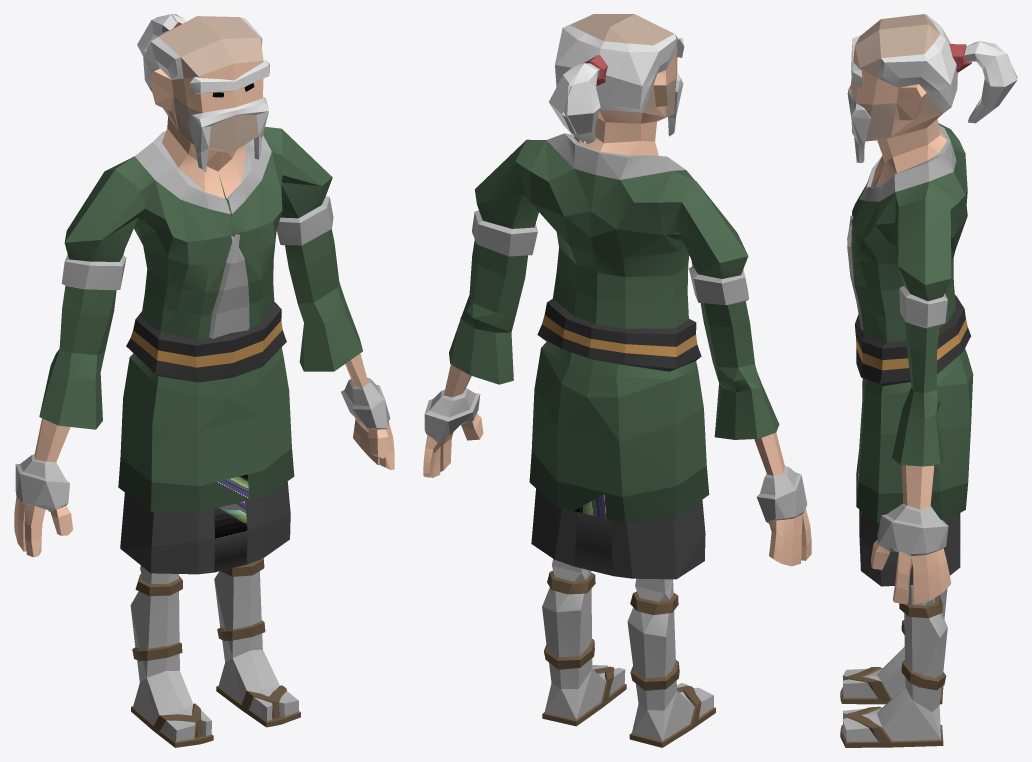
Rendered from Monk.fbx.
3 renders of one model, left to right at view 1: azimuth 30°, elevation 25°; view 2: azimuth 150°, elevation 25°; view 3: azimuth 270°, elevation 25°, orthographic. The views are drawn at different scales.
Parts seen in each view (by area): view 1: Character_Sensei; view 2: Character_Sensei; view 3: Character_Sensei.
Boxes of the visible parts, <box> form: Character_Sensei: <box>14,14,394,747</box>; Character_Sensei: <box>423,14,811,747</box>; Character_Sensei: <box>840,14,1017,747</box>.
Bounding box in the file's own units: 99.49 × 179 × 41.45.
